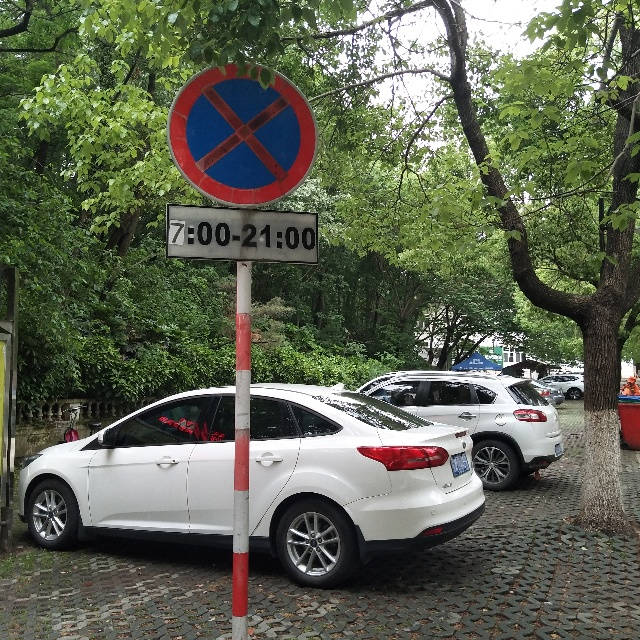stop: (179, 62, 312, 208)
